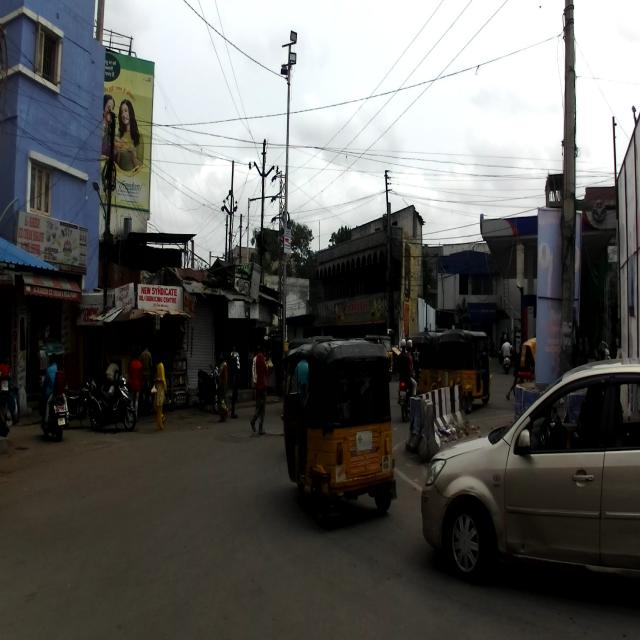Car_Ford: (420, 357, 638, 597)
autorickshaw: (280, 337, 398, 518), (437, 329, 492, 415)
scooter: (90, 372, 136, 432), (39, 372, 67, 445)
